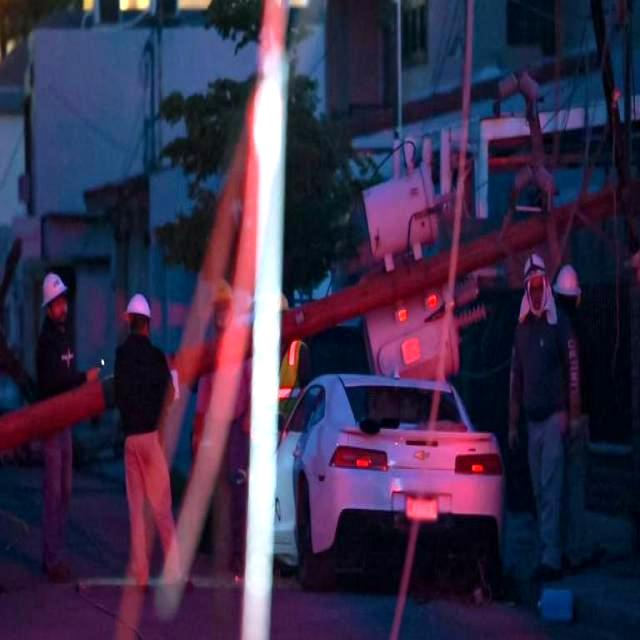Broken Pole: (0, 0, 640, 459)
